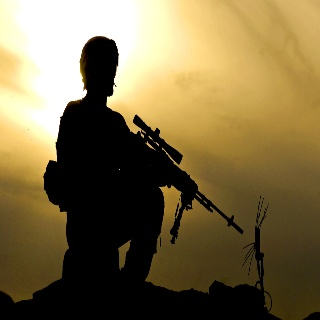rifle: (127, 112, 246, 247)
